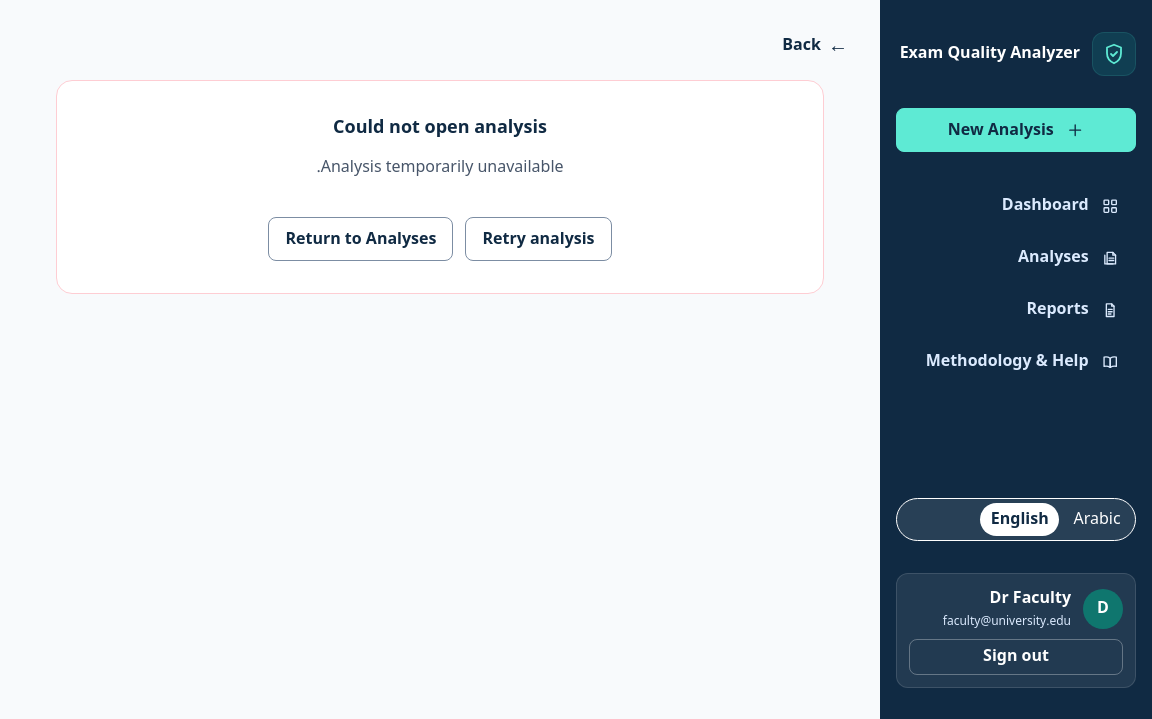
Test: AppRoutes › retries only a failed shared analysis request
Step 1. Click the button "Retry analysis" → (538, 239), box [465,217,612,261]
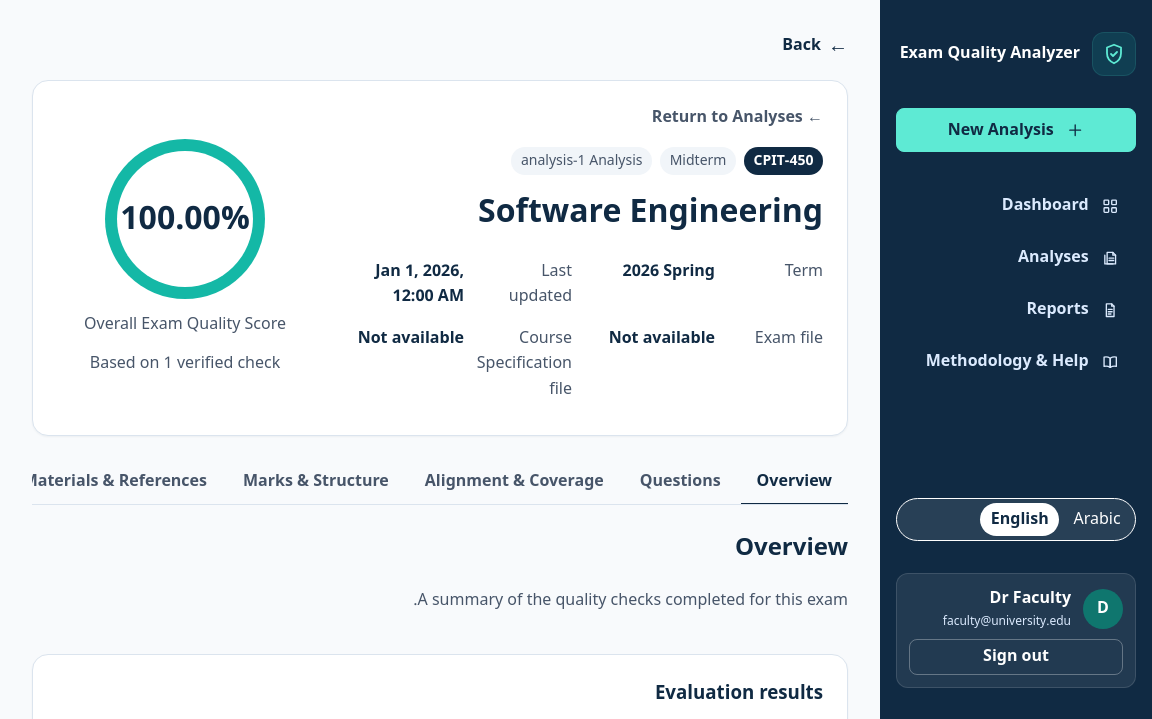
Expected: the heading "Software Engineering" is shown, [478,178,823,246]
